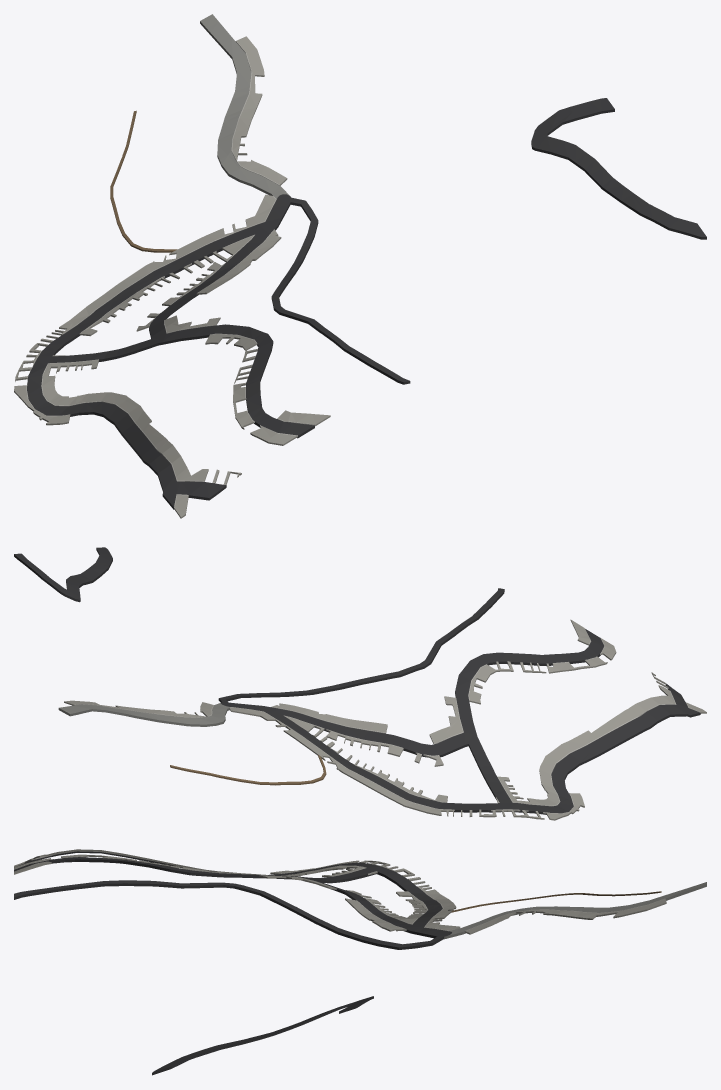
Rendered from 17-109424-59471.cfc61eb4.glb.
The picture shows the model from 3 angles, top to bottom: view 1: azimuth 30°, elevation 25°; view 2: azimuth 150°, elevation 25°; view 3: azimuth 270°, elevation 25°; orthographic projection. The views are drawn at different scales.
Size of the model in its own units: 293 by 80.13 by 291.
